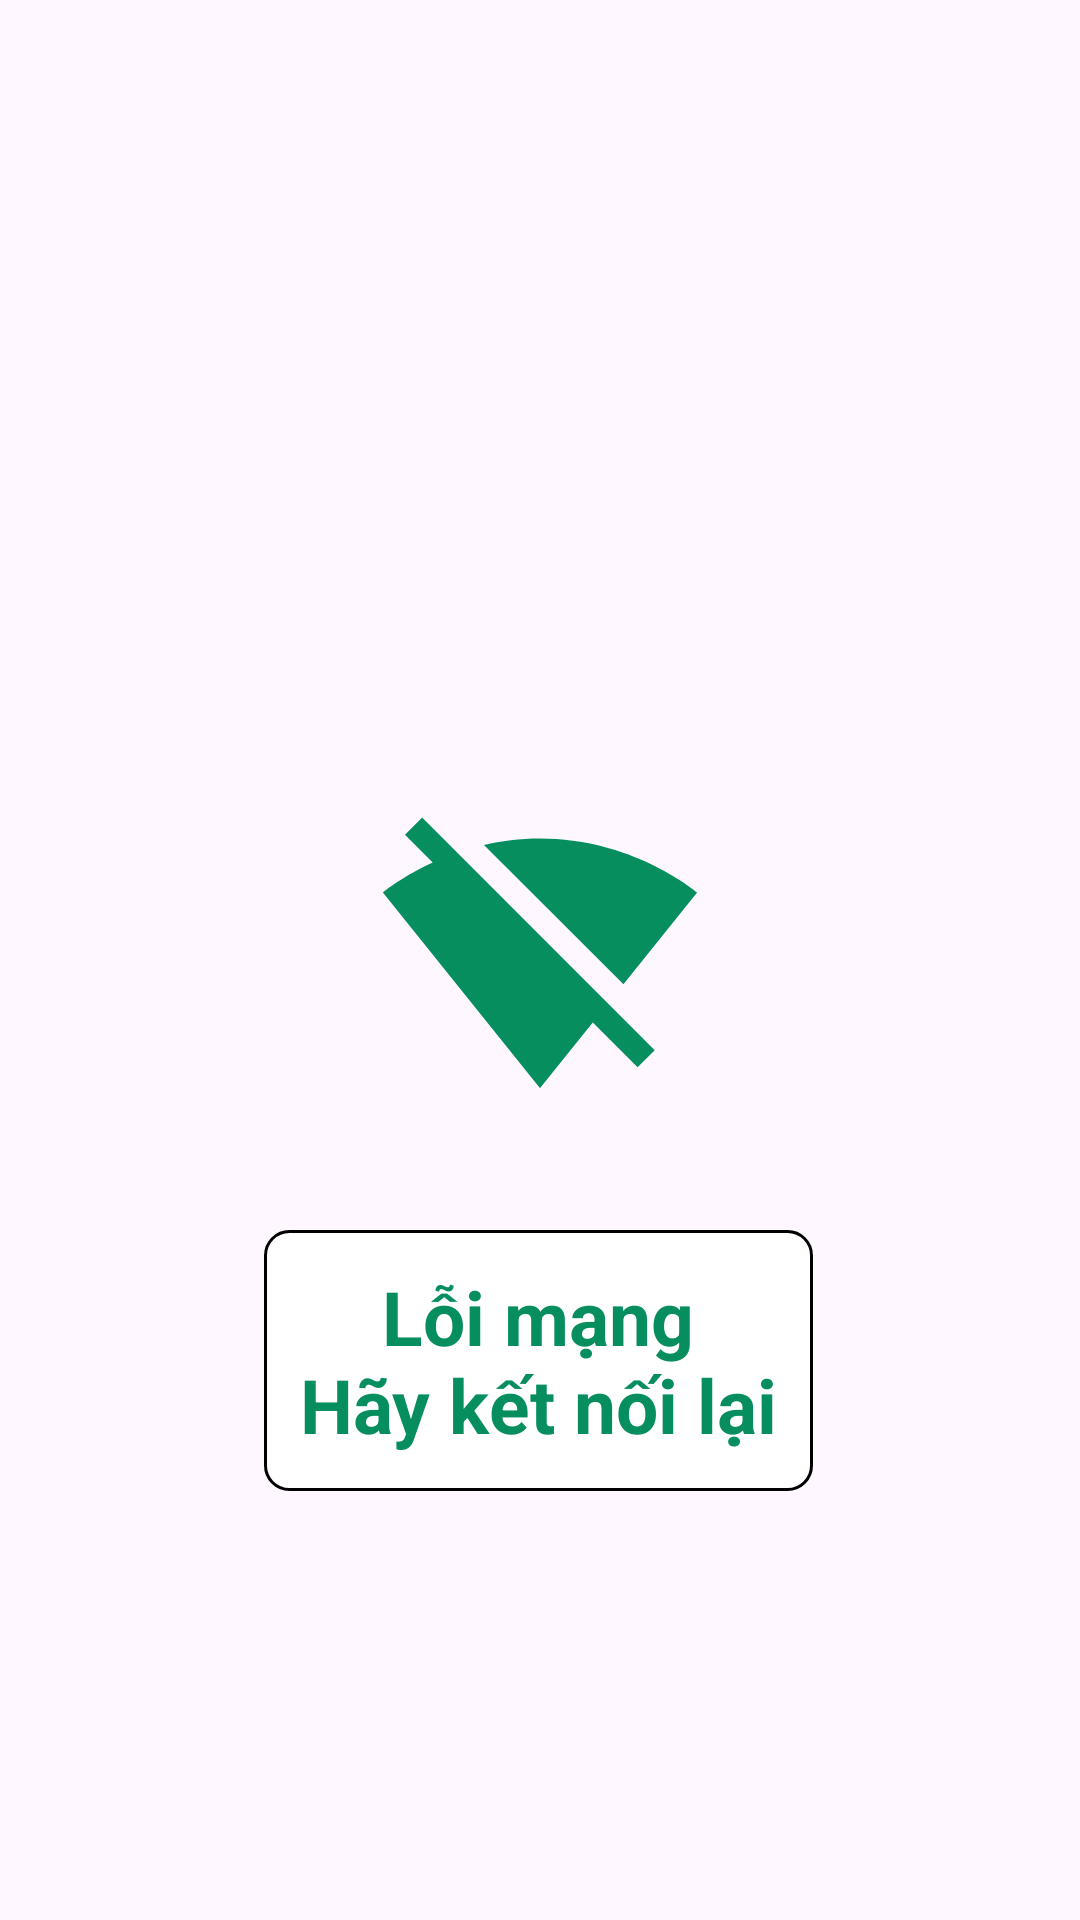

Point at icon controls on the screen. Image size 1080*1920, points as (x,y).
no network: (540,952)
